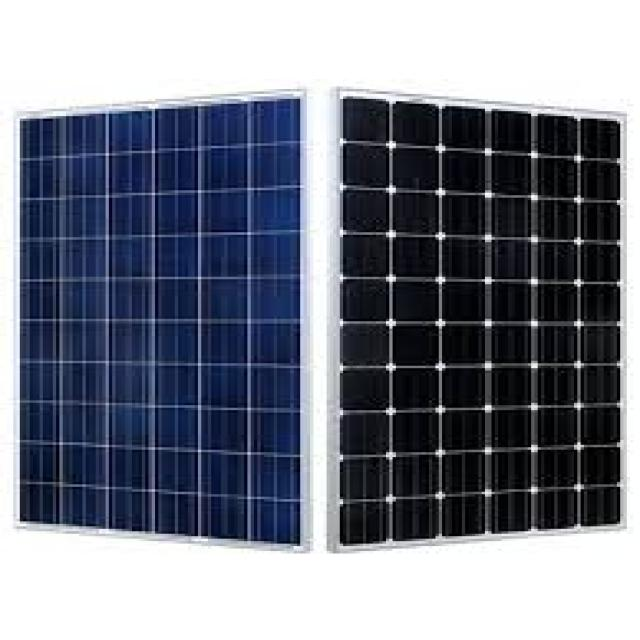Solar: (335, 99, 637, 547), (27, 112, 307, 540)
